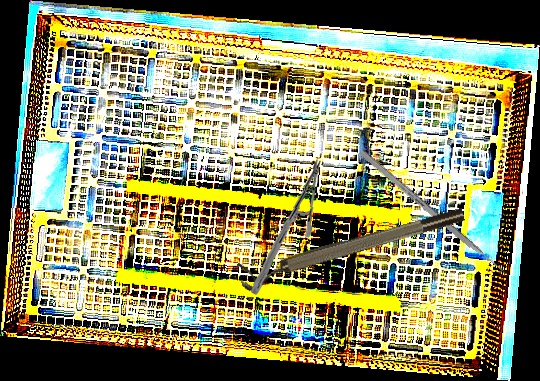Fixation Ring: (236, 204, 469, 294)
Needle Holder: (244, 158, 329, 296)
Pusher: (358, 149, 513, 280)
